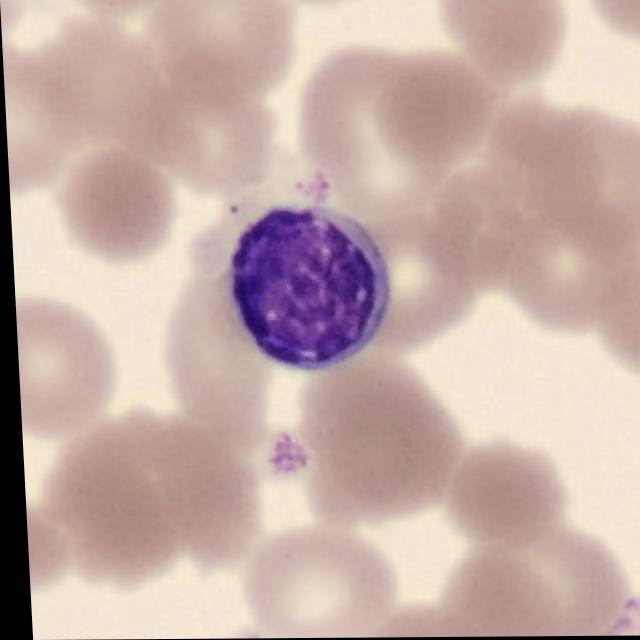Linfocito: (224, 172, 390, 370)
